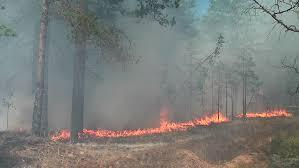fire: (80, 106, 230, 136), (235, 108, 292, 118), (53, 127, 70, 140)
yanwu: (80, 2, 292, 118)
